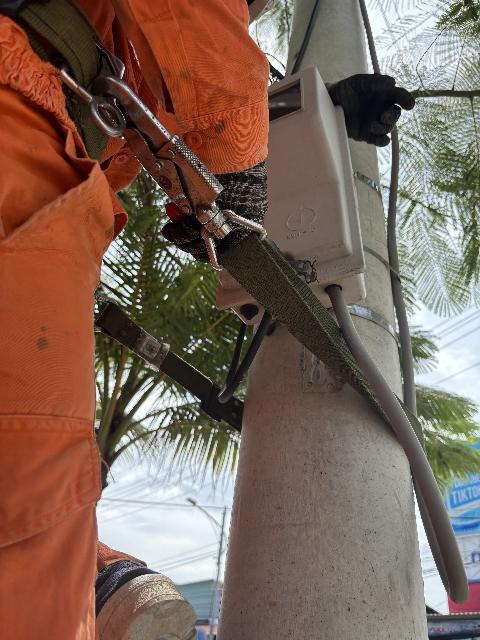gloves: (154, 141, 280, 264), (305, 60, 435, 162)
harness: (0, 0, 299, 376)
shoes: (82, 520, 223, 640)
